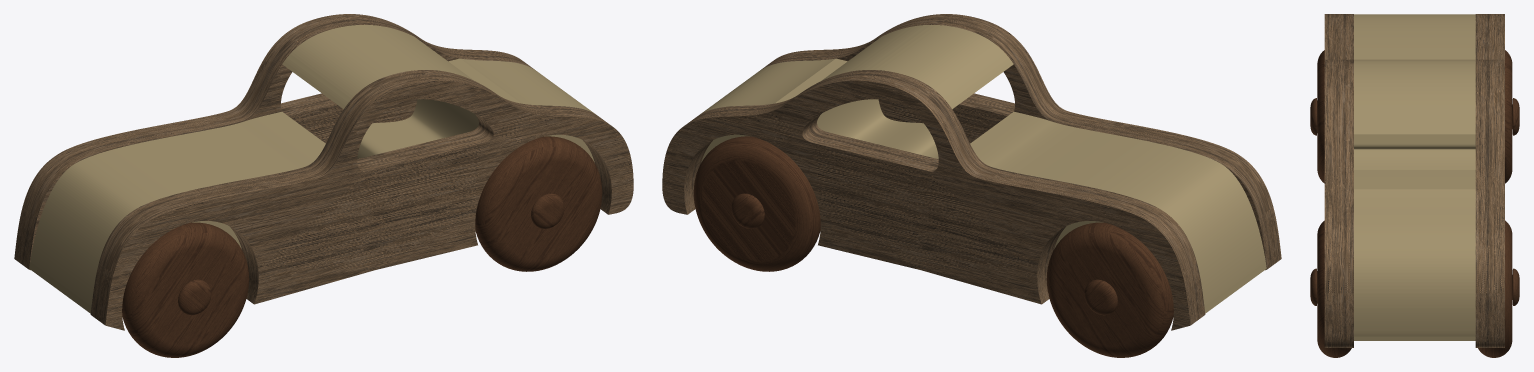
File: car.fbx
The picture shows the model from 3 angles, left to right: view 1: azimuth 30°, elevation 25°; view 2: azimuth 150°, elevation 25°; view 3: azimuth 270°, elevation 25°; orthographic projection.
Parts seen in each view (by area): view 1: Shape11, Shape4, Shape014, ChamferCyl002, ChamferCyl003, ChamferCyl001; view 2: Shape014, Shape4, Shape11, ChamferCyl004, ChamferCyl005, ChamferCyl001; view 3: Shape4, Shape11, Shape014, ChamferCyl002, ChamferCyl004, ChamferCyl001, ChamferCyl003, ChamferCyl005.
Part boxes in pixels (<box>): Shape11: <box>90,70,633,330</box>; Shape4: <box>29,24,594,317</box>; Shape014: <box>14,14,534,270</box>; ChamferCyl002: <box>475,136,602,271</box>; ChamferCyl003: <box>122,222,249,357</box>; ChamferCyl001: <box>178,193,564,315</box>; Shape014: <box>662,70,1205,330</box>; Shape4: <box>701,24,1266,317</box>; Shape11: <box>761,14,1281,270</box>; ChamferCyl004: <box>693,136,820,271</box>; ChamferCyl005: <box>1046,222,1173,357</box>; ChamferCyl001: <box>731,193,1117,315</box>; Shape4: <box>1354,14,1475,340</box>; Shape11: <box>1324,14,1353,347</box>; Shape014: <box>1475,14,1504,347</box>; ChamferCyl002: <box>1317,220,1351,357</box>; ChamferCyl004: <box>1478,220,1512,357</box>; ChamferCyl001: <box>1310,98,1519,305</box>; ChamferCyl003: <box>1317,50,1324,183</box>; ChamferCyl005: <box>1505,50,1512,183</box>.
Size of the model in its own units: 19.5 by 6.76 by 7.79.
